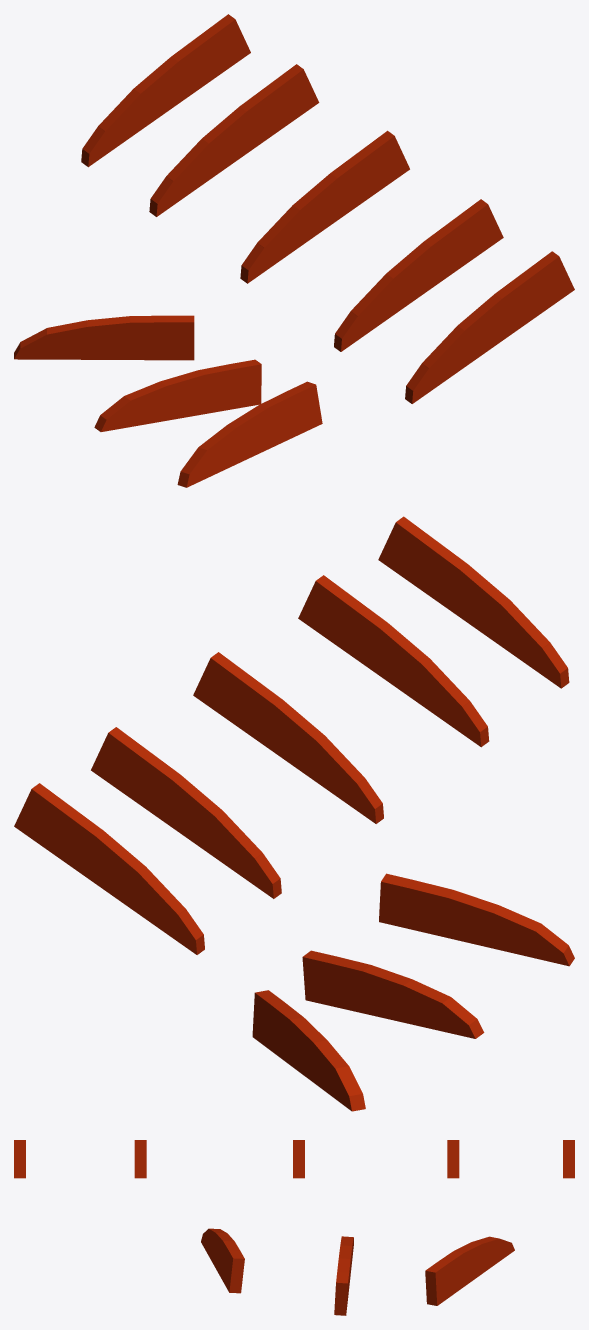
Rendered from Aletas.fbx.
3 views of the same model, one above another, from view 1: azimuth 30°, elevation 25°; view 2: azimuth 150°, elevation 25°; view 3: azimuth 270°, elevation 25° (orthographic). The views are drawn at different scales.
Parts seen in each view (by area): view 1: Aletas; view 2: Aletas; view 3: Aletas.
Boxes of the visible parts, x1,y1,x2,y2 form: Aletas: [14, 14, 574, 487]; Aletas: [14, 516, 574, 1111]; Aletas: [14, 1140, 574, 1315].
Bounding box in the file's own units: 360 × 319 × 735.
